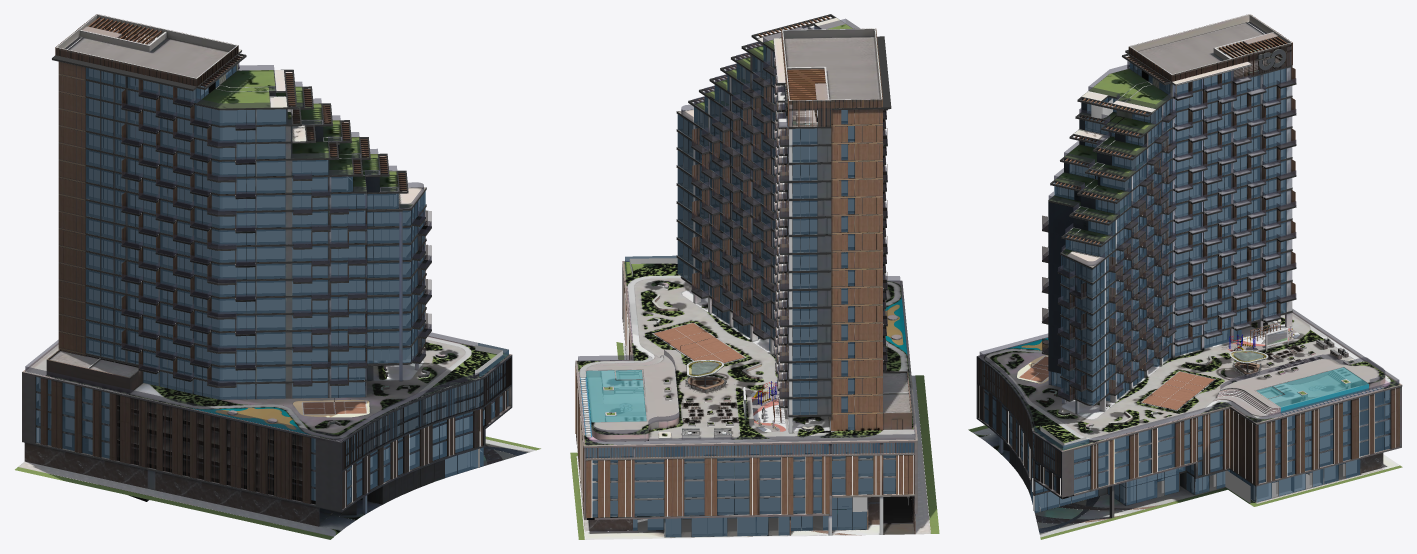
Rendered from The_Winslow_build.glb.
3 renders of one model, left to right at view 1: azimuth 30°, elevation 25°; view 2: azimuth 150°, elevation 25°; view 3: azimuth 270°, elevation 25°, orthographic. The views are drawn at different scales.
Parts seen in each view (by area): view 1: The_Winslow_build; view 2: The_Winslow_build; view 3: The_Winslow_build.
Part boxes in pixels (x1,y1,x2,y2): The_Winslow_build: (15,14,540,539); The_Winslow_build: (570,14,939,539); The_Winslow_build: (968,14,1402,539).
Size of the model in its own units: 3340992 by 3214952 by 3363162.
Materials: 39 (15 with a texture image).
